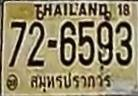2: (28, 22, 45, 67)
3: (115, 20, 131, 64)
5: (78, 20, 94, 65)
6: (60, 21, 75, 65)
7: (8, 21, 26, 67)
9: (96, 21, 112, 65)
SPK: (26, 70, 112, 93)
